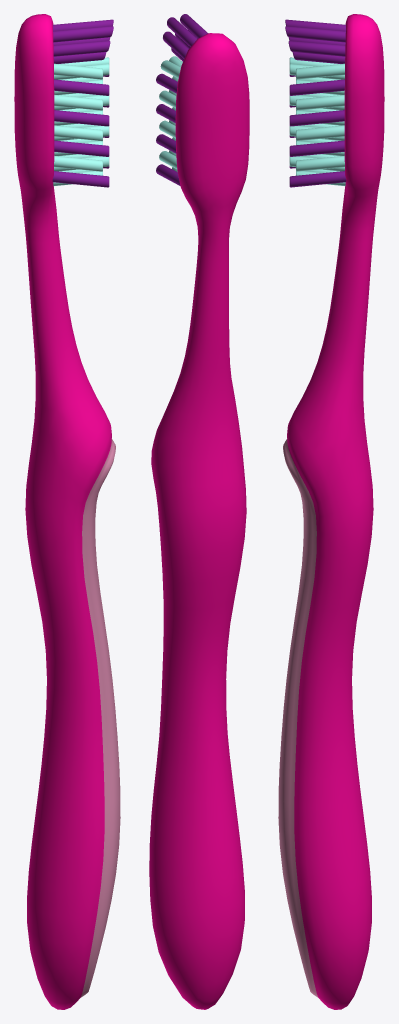
Rendered from uploads_files_5864654_Tooth+brush+lowpoly.fbx.
3 renders of one model, left to right at view 1: azimuth 90°, elevation 25°; view 2: azimuth 210°, elevation 25°; view 3: azimuth 270°, elevation 25°, orthographic.
Parts seen in each view (by area): view 1: Tooth Brush; view 2: Tooth Brush; view 3: Tooth Brush.
Part boxes in pixels (bbox=[...]): Tooth Brush: bbox=[14, 14, 120, 1009]; Tooth Brush: bbox=[149, 14, 249, 1009]; Tooth Brush: bbox=[278, 14, 384, 1009].
Size of the model in its own units: 1.57 by 17.51 by 1.69.
Materials: 2 (2 with a texture image).
